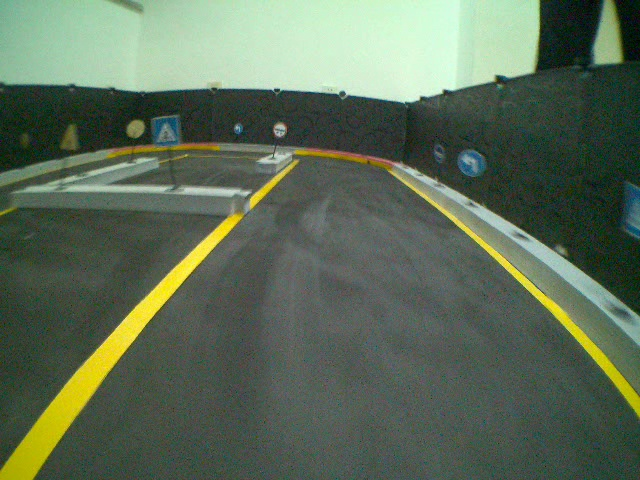Check: (271, 121, 288, 139)
crossing: (150, 115, 180, 144)
turn: (456, 148, 485, 178)
